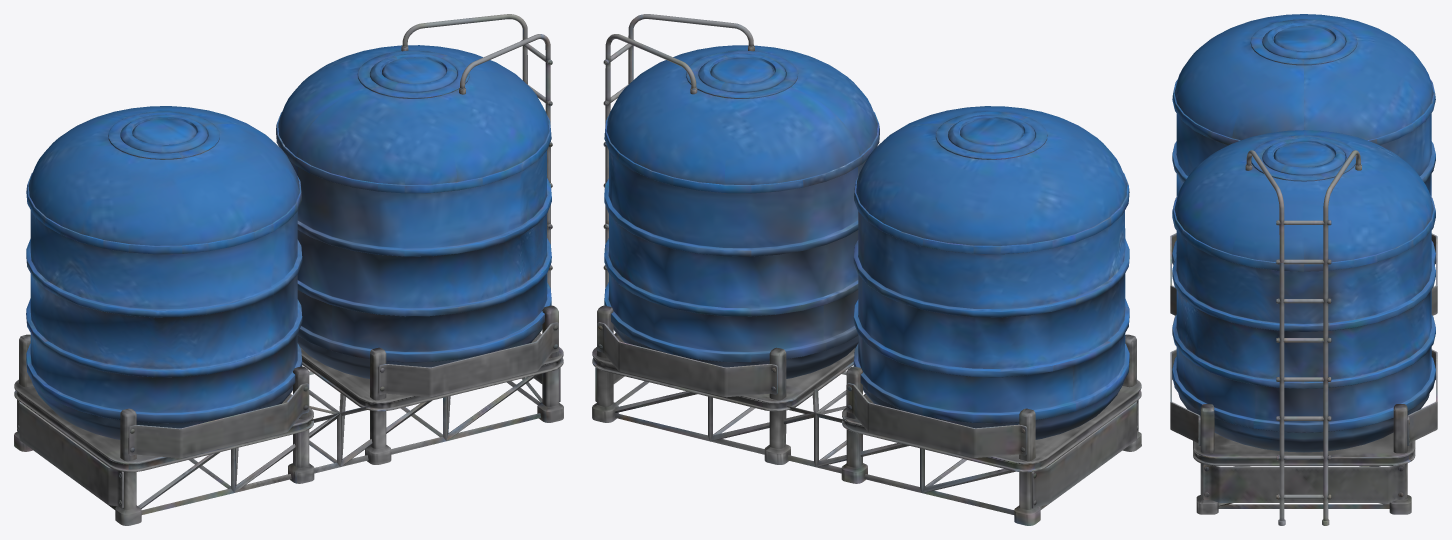
File: water_tank_4.glb
3 views of the same model, side by side, from view 1: azimuth 30°, elevation 25°; view 2: azimuth 150°, elevation 25°; view 3: azimuth 270°, elevation 25° (orthographic). The views are drawn at different scales.
Parts seen in each view (by area): view 1: Object_5; view 2: Object_5; view 3: Object_5.
Boxes of the visible parts, left/top/right/bottom form: Object_5: left=14, top=14, right=563, bottom=525; Object_5: left=592, top=14, right=1141, bottom=525; Object_5: left=1170, top=14, right=1437, bottom=525.
Bounding box in the file's own units: 1.48 × 1 × 0.7255.
Materials: 1 (1 with a texture image).
